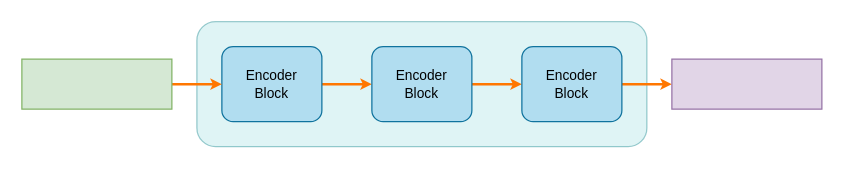
Image size: 844x169. Some labels were removed from this diagram. The shapes that lost their labels are listed below. From the top down, each one's box as (x1, y1, x2, y2) in pixels, then its label:
(21, 58, 172, 109): Inputs
(671, 58, 822, 109): Context
